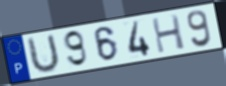4: (127, 19, 153, 58)
6: (93, 25, 120, 63)
9: (186, 9, 213, 49), (62, 30, 89, 69)
H: (150, 13, 187, 55)
U: (26, 32, 61, 76)
